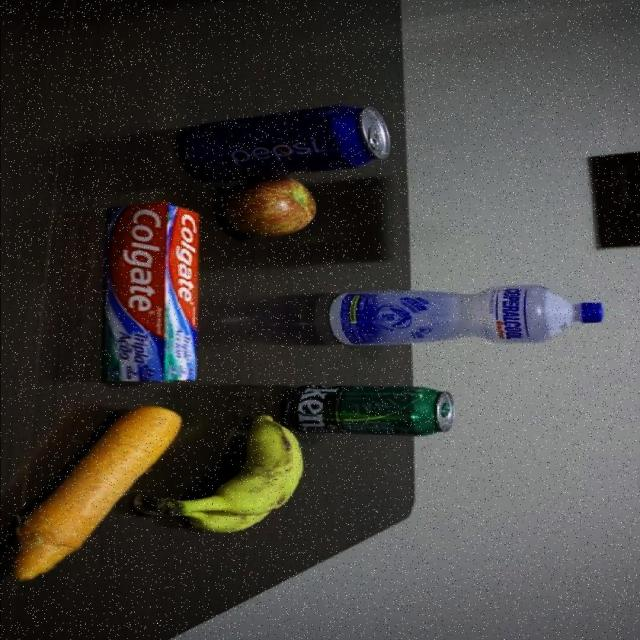AlcoholBottle: (322, 285, 606, 346)
Apple: (218, 174, 318, 240)
Banana: (130, 414, 304, 534)
BeerCan: (281, 382, 455, 439)
Carrot: (1, 404, 183, 583)
SodaCan: (176, 106, 391, 183)
Toothpaste: (101, 199, 204, 389)
